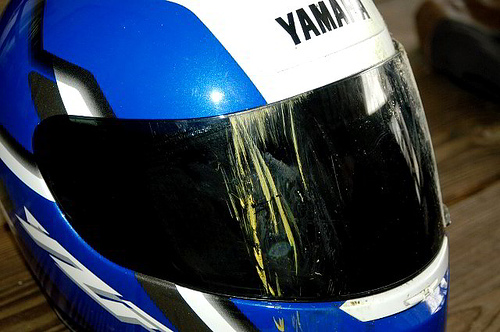helmet: (10, 4, 445, 331)
